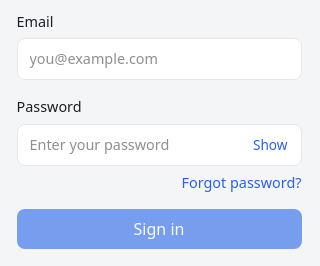
Test: SignInForm › keeps Sign in disabled until the email and password are filled in
Expected: the button "Sign in" is disabled, [16,209,302,249]
In the field labelled "Email": point(159, 59) [16,38,302,80], type "anna@example"
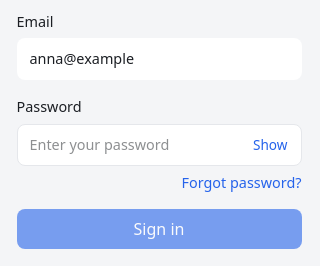
In the password field labelled "Password": point(159, 145) [16,124,302,166], type "secret"
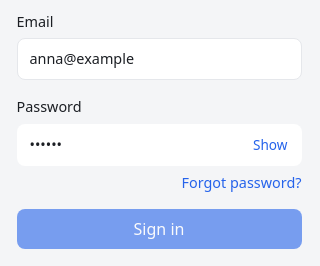
Expected: the button "Sign in" is disabled, [16,209,302,249]
In the field labelled "Email": point(159, 59) [16,38,302,80], type ".com"
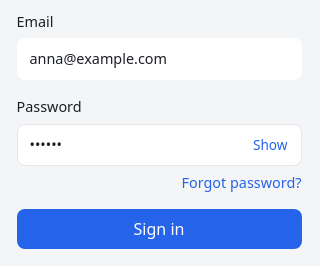
Result: the button "Sign in" is enabled at [16,209,302,249]
